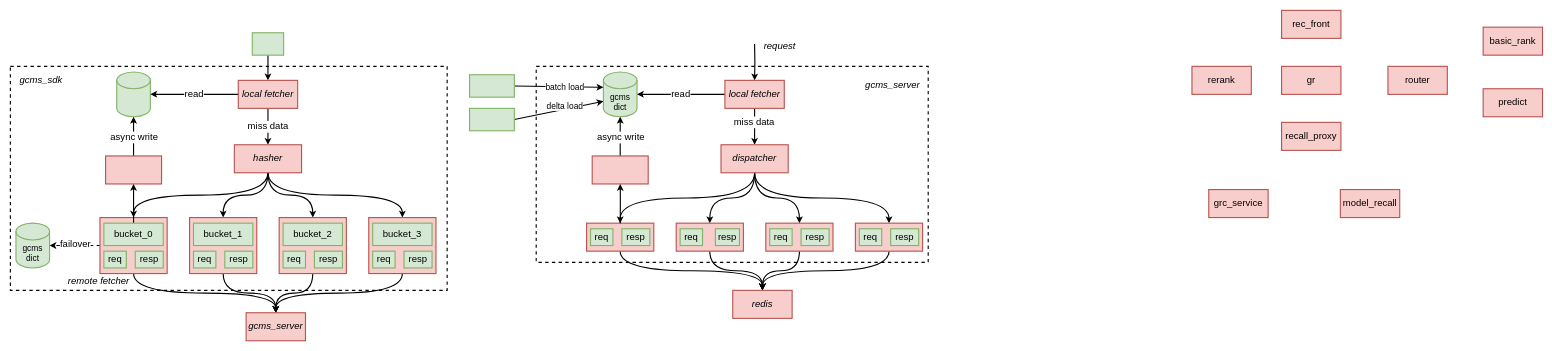
This 1552x351 diagram has some shape labels left out. Each missing label, with the centre of its shape:
ceph: the point at 492,85
custom parser: the point at 133,169
id list: the point at 267,43
kafka: the point at 492,119
lru cache: the point at 133,94
parser: the point at 619,169
